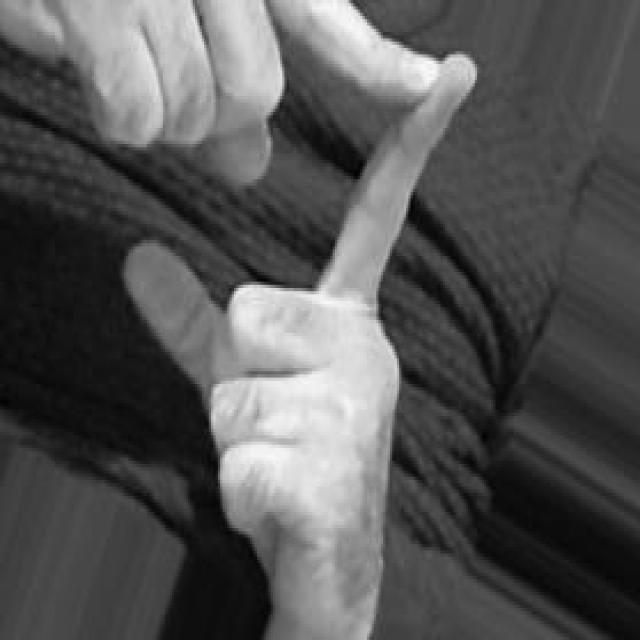J: (0, 0, 480, 639)
